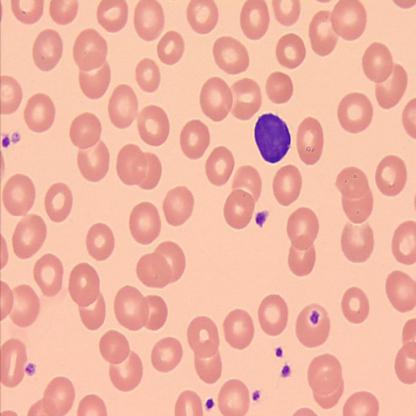Lymphocyte: (254, 112, 291, 164)
